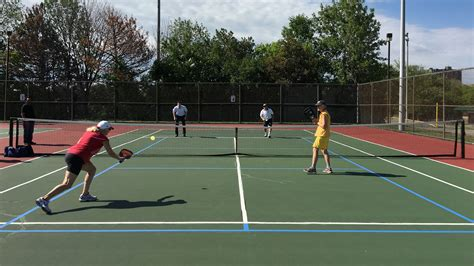tennis_ball: (150, 135, 155, 141)
